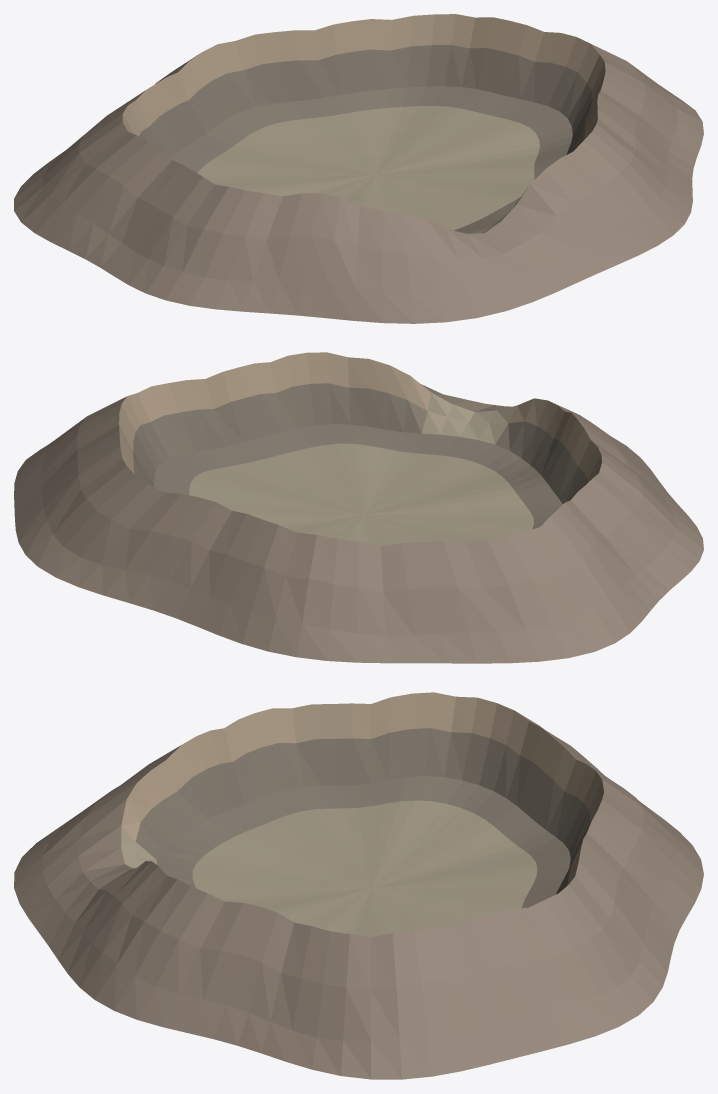
The picture shows the model from 3 angles, top to bottom: view 1: azimuth 30°, elevation 25°; view 2: azimuth 150°, elevation 25°; view 3: azimuth 270°, elevation 25°; orthographic projection. The views are drawn at different scales.
Visible parts, largest first — view 1: continuous_closed_volcanic_collapse_basin; view 2: continuous_closed_volcanic_collapse_basin; view 3: continuous_closed_volcanic_collapse_basin.
Part boxes in pixels (x1,y1,x2,y2): continuous_closed_volcanic_collapse_basin: (14, 14, 703, 323); continuous_closed_volcanic_collapse_basin: (14, 352, 703, 663); continuous_closed_volcanic_collapse_basin: (14, 692, 703, 1079).
Bounding box in the file's own units: 4076 × 528 × 3474.
